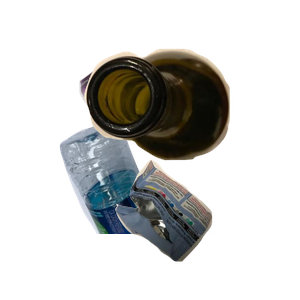glass: (82, 46, 300, 199)
metal: (77, 61, 222, 191)
plastic: (57, 120, 284, 300)
trash: (113, 157, 300, 300)
